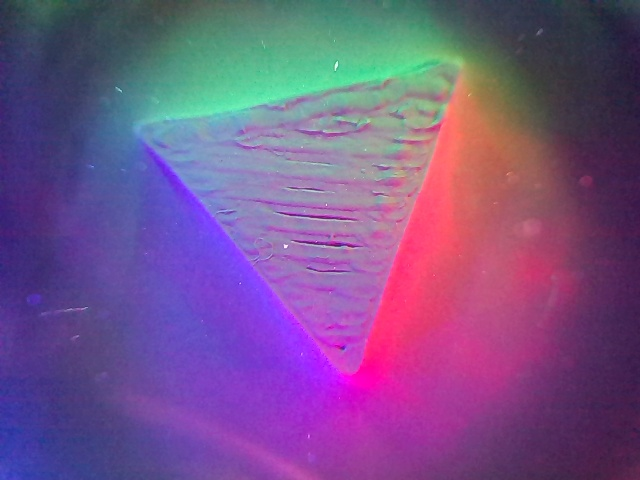contact: (140, 63, 454, 371)
